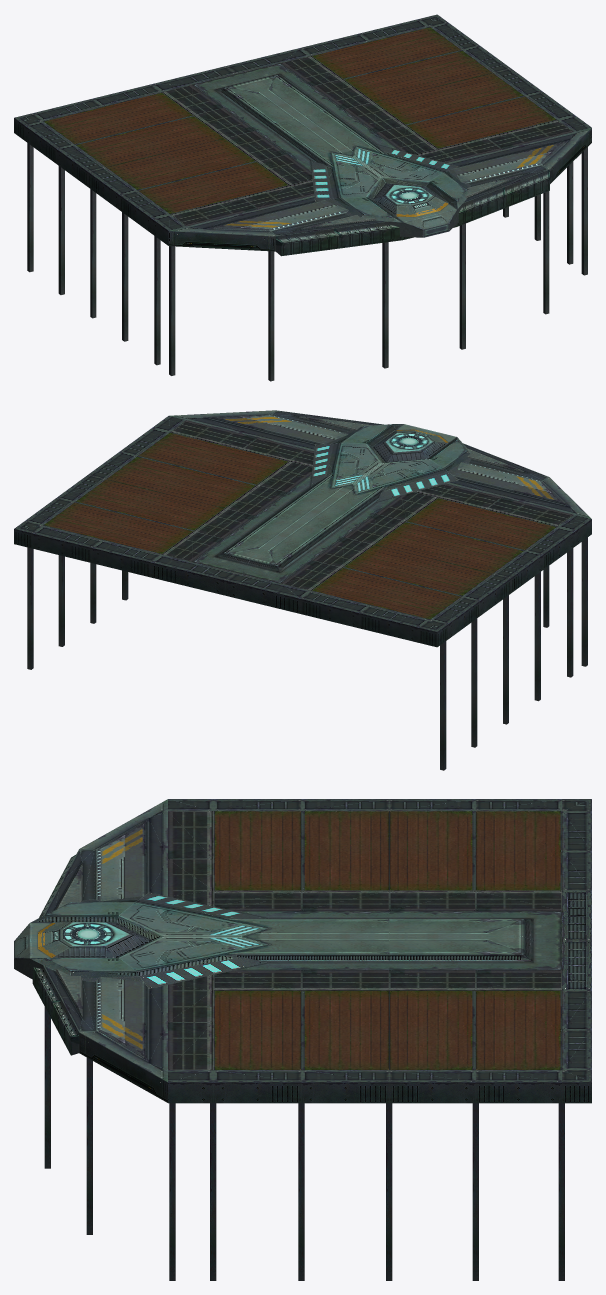
File: yw_museyulin_pingtai04.FBX
3 views of the same model, one above another, from view 1: azimuth 30°, elevation 25°; view 2: azimuth 150°, elevation 25°; view 3: azimuth 270°, elevation 25° (orthographic). The views are drawn at different scales.
Parts seen in each view (by area): view 1: yw_museyulin_pingtai04; view 2: yw_museyulin_pingtai04; view 3: yw_museyulin_pingtai04.
Boxes of the visible parts, bbox=[...] form: yw_museyulin_pingtai04: bbox=[14, 14, 591, 381]; yw_museyulin_pingtai04: bbox=[14, 410, 591, 770]; yw_museyulin_pingtai04: bbox=[14, 799, 591, 1280].
Size of the model in its own units: 2251 by 768 by 1940.
